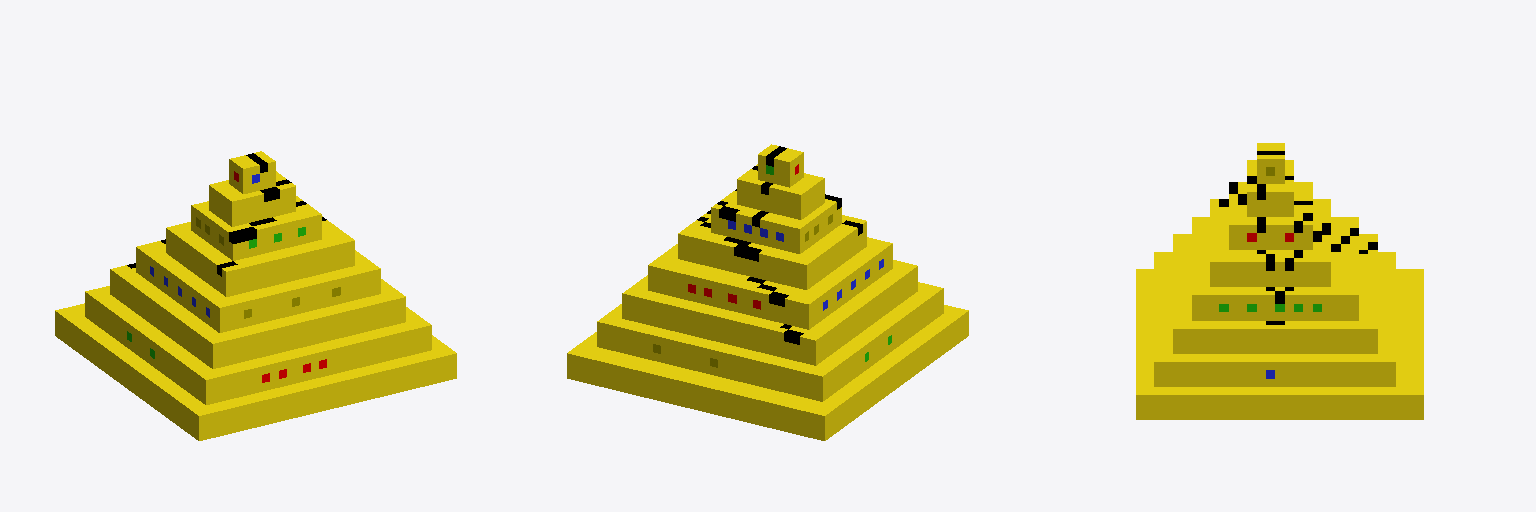
The picture shows the model from 3 angles: view 1: azimuth 30°, elevation 25°; view 2: azimuth 150°, elevation 25°; view 3: azimuth 270°, elevation 25°; orthographic projection.
Visible parts, largest first — view 1: place_ur; view 2: place_ur; view 3: place_ur.
Part boxes in pixels (x1,y1,x2,y2): place_ur: (55, 151, 456, 440); place_ur: (567, 144, 968, 440); place_ur: (1136, 143, 1423, 419).
Bounding box in the file's own units: 32 × 24 × 31.
Materials: 1 (1 with a texture image).